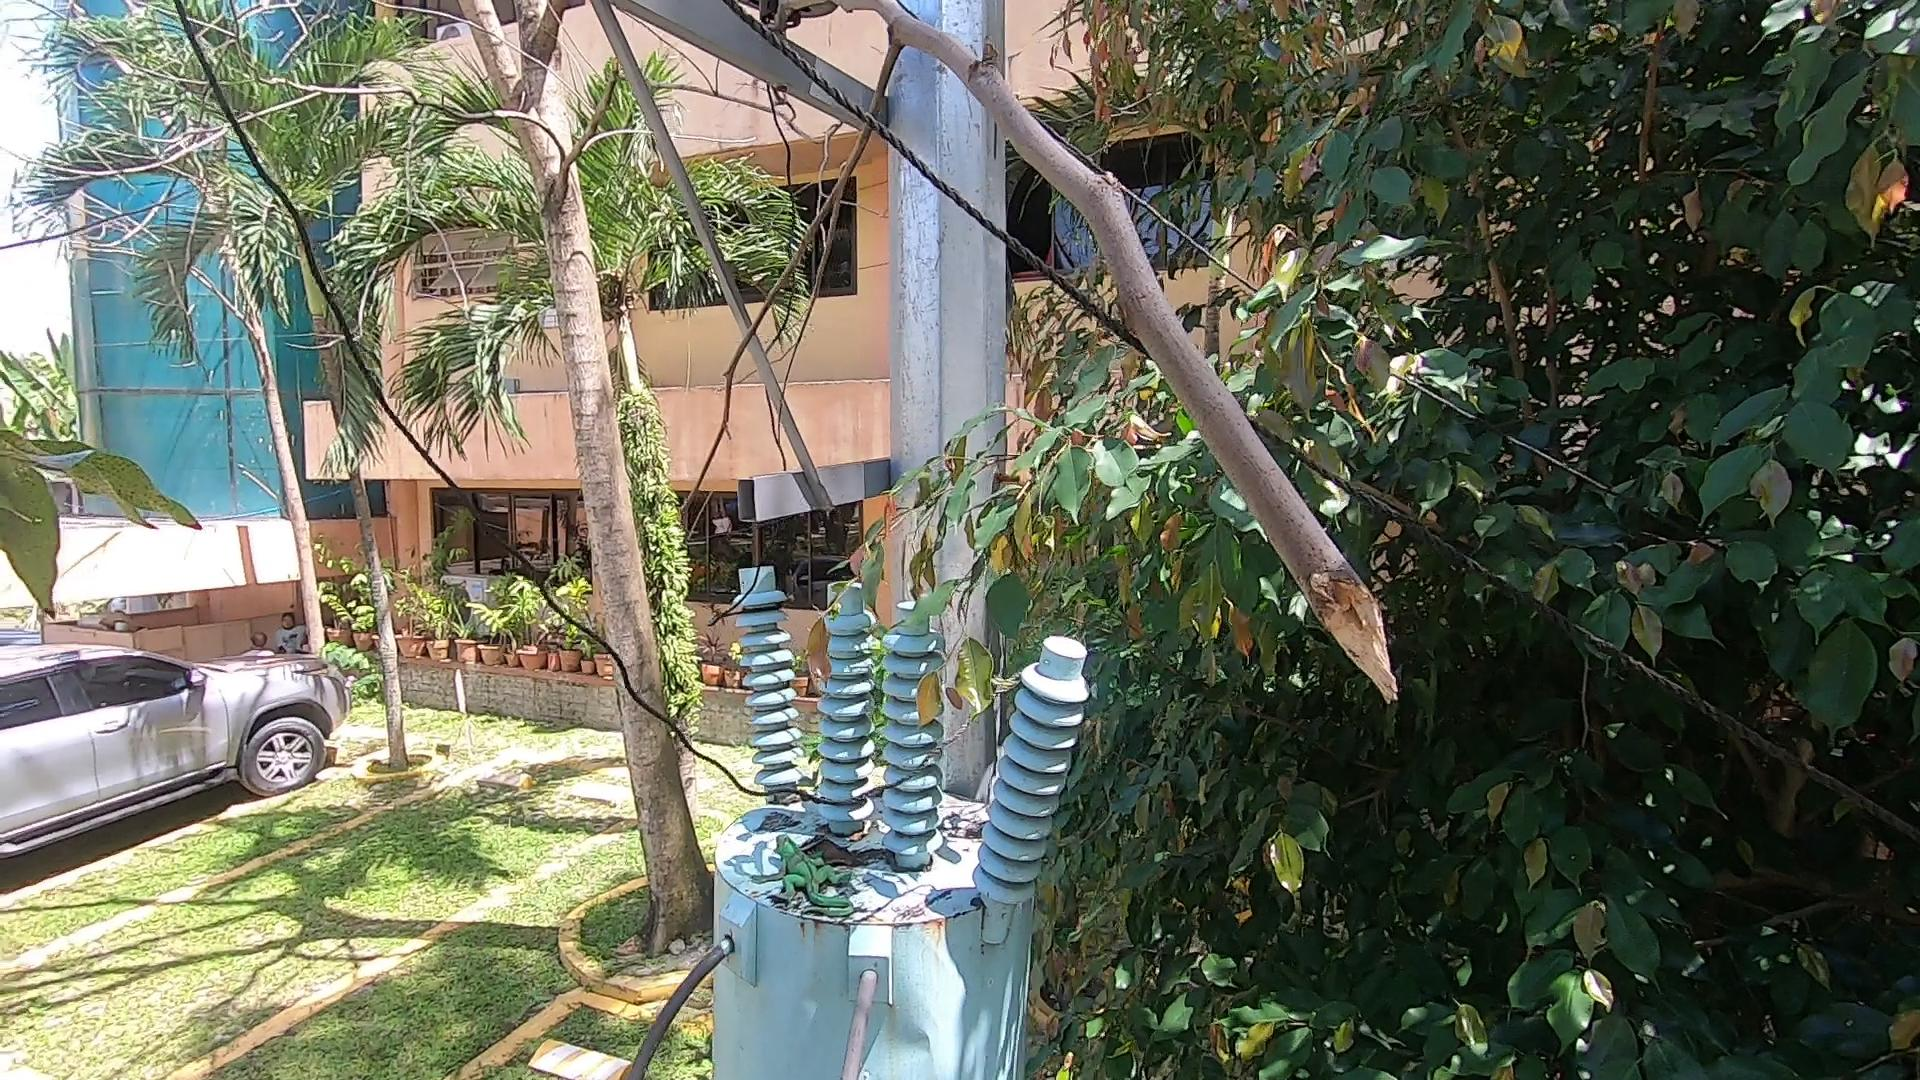branch with leaves: (694, 376, 1143, 732)
leaf: (799, 824, 905, 884), (742, 775, 824, 807), (939, 811, 1004, 845)
tree branch: (746, 11, 1416, 741)
